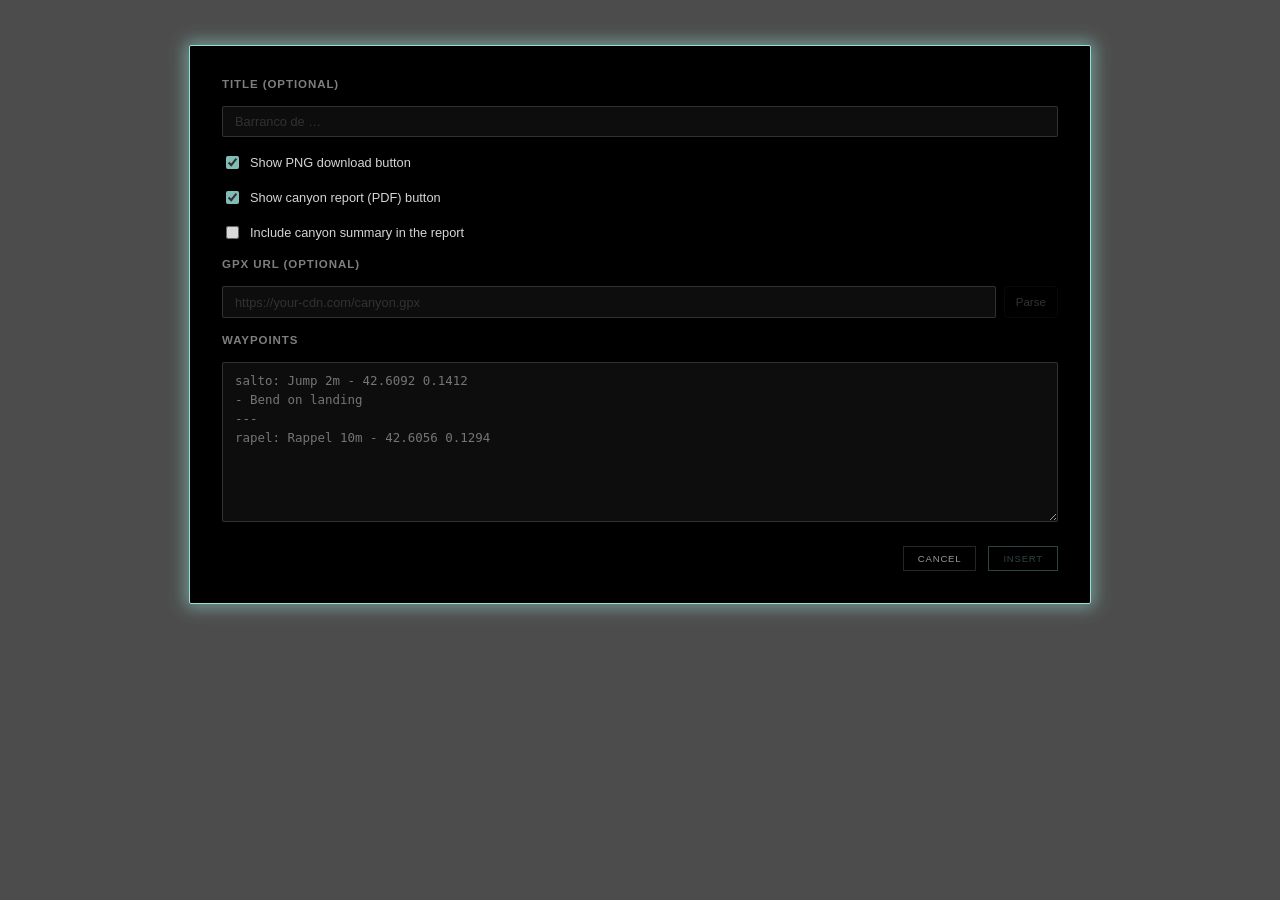
Test: CroquisInsertModal › GPX parse › shows the server error message
Type "https://x/y.gpx" into the field with test id "croquis-modal-gpx" at [609, 302], box top-left (222, 286), bottom-right (996, 318)
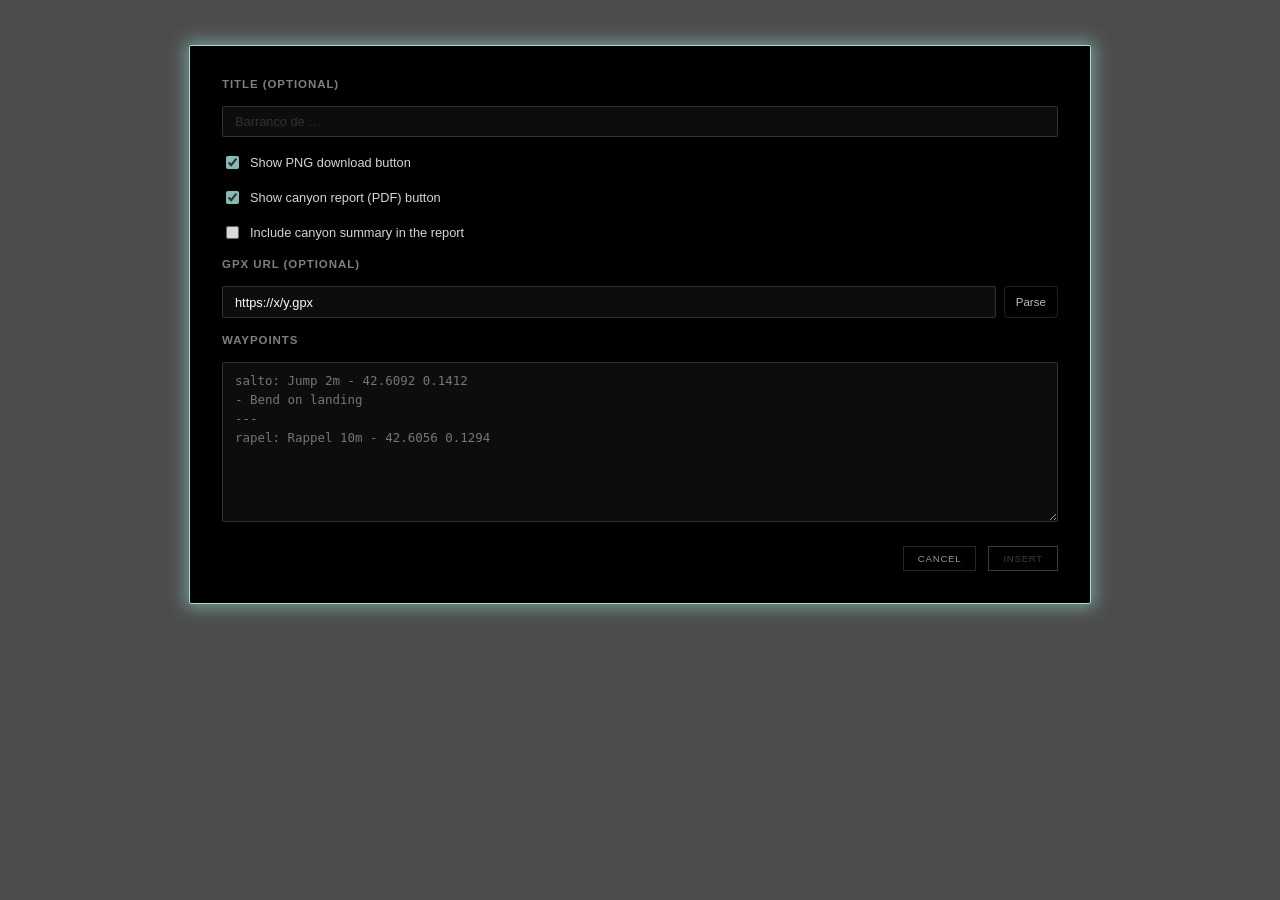
Click the button with test id "croquis-modal-parse" at [1031, 302], box top-left (1004, 286), bottom-right (1058, 318)
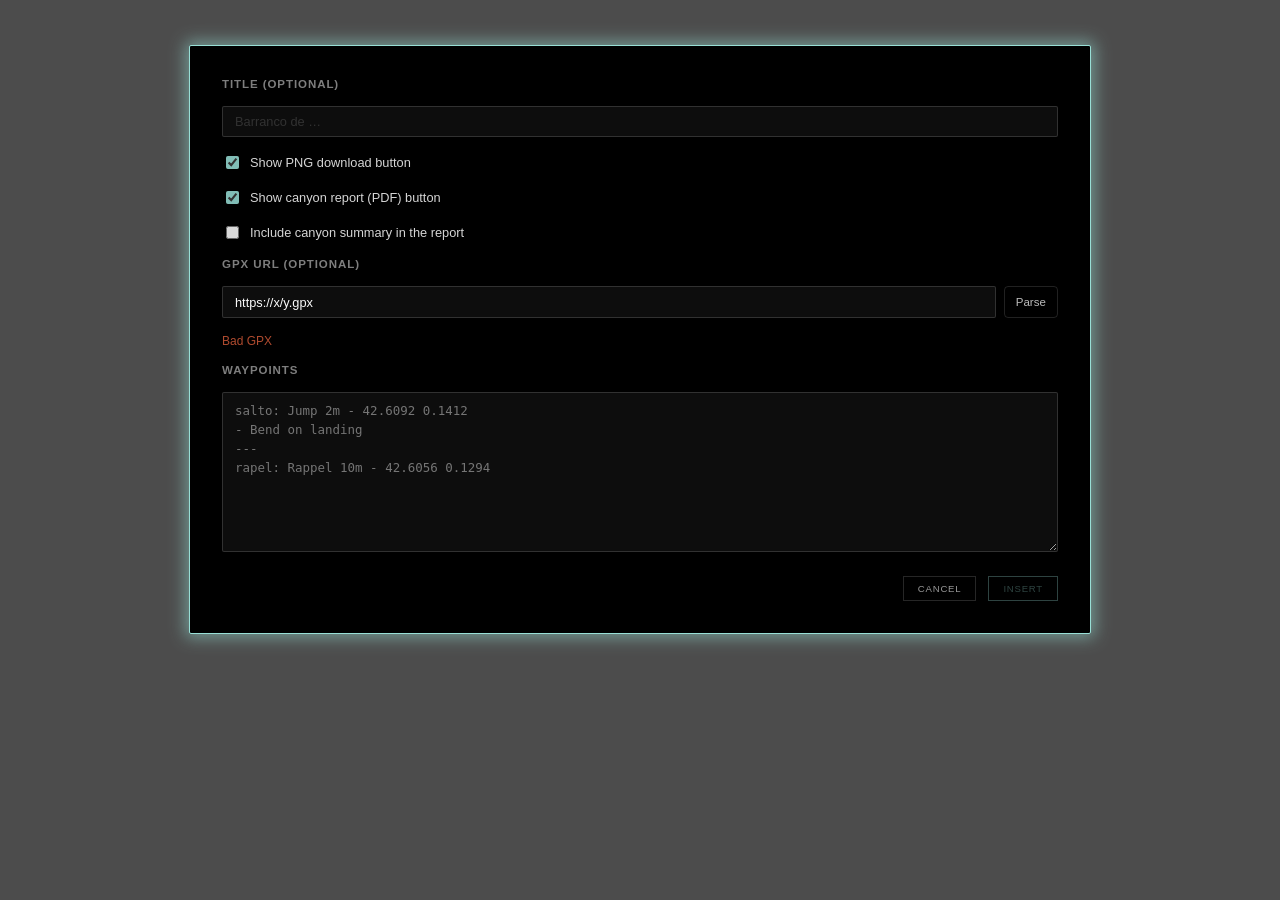
Now the text with test id "croquis-modal-error" reads "Bad GPX", box top-left (222, 334), bottom-right (272, 348)
